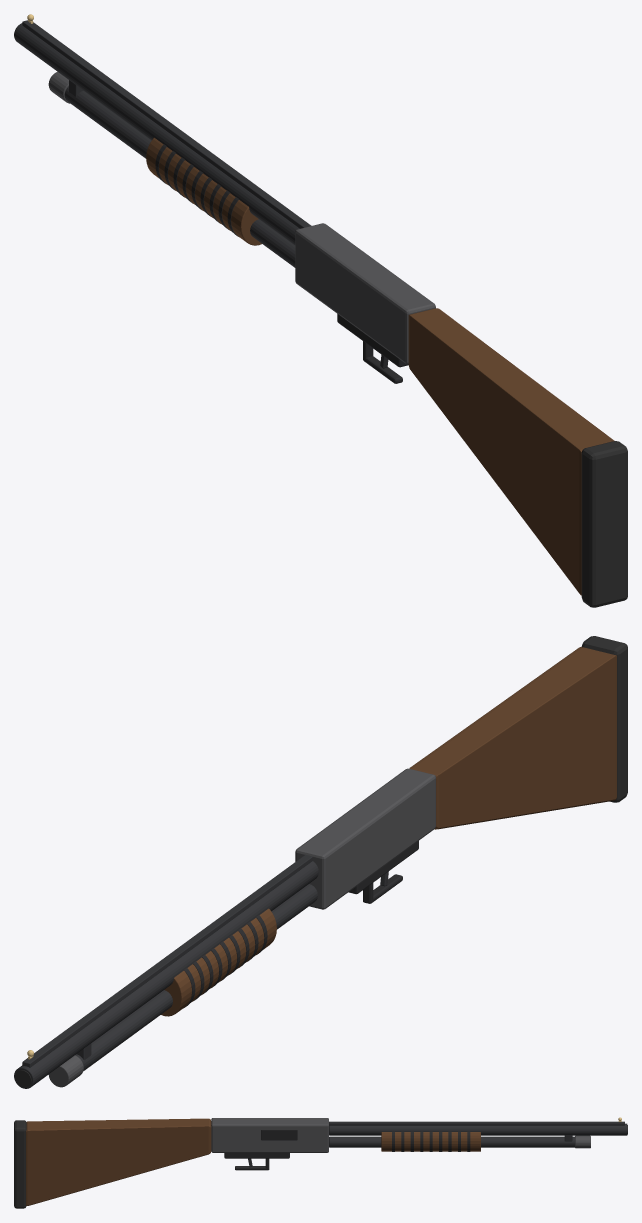
Rendered from shotgun.glb.
3 views of the same model, one above another, from view 1: azimuth 30°, elevation 25°; view 2: azimuth 150°, elevation 25°; view 3: azimuth 270°, elevation 25° (orthographic). The views are drawn at different scales.
Parts seen in each view (by area): view 1: recv_001; view 2: recv_001; view 3: recv_001.
Part boxes in pixels (box(x1,y1,x2,y2)): recv_001: box(14, 14, 627, 607); recv_001: box(14, 636, 627, 1088); recv_001: box(14, 1117, 627, 1208).
Size of the model in its own units: 0.044 by 0.1835 by 1.17.
